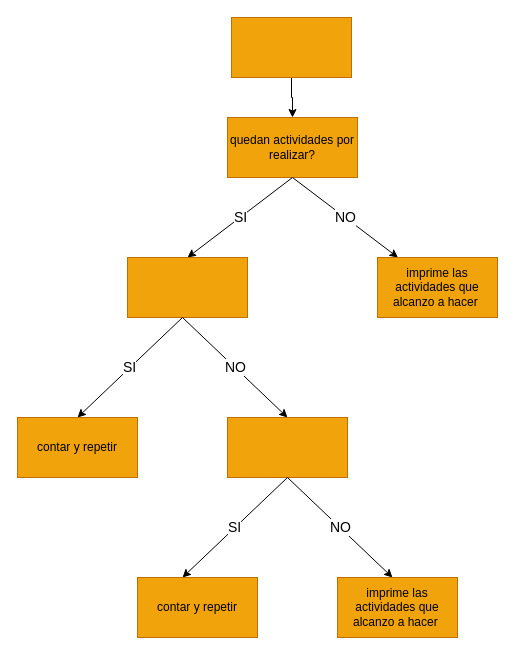
Some shapes in this 515 by 655 pixel diagram are drawn without their labels. Each missing label, with the centre of its shape:
"puedo hacer alguna actividad agotante?" belongs at (187,287).
"puedo realizar alguna activadad relajante?" belongs at (287,447).
"recibir cantidad de actividades y energia" belongs at (291,47).
